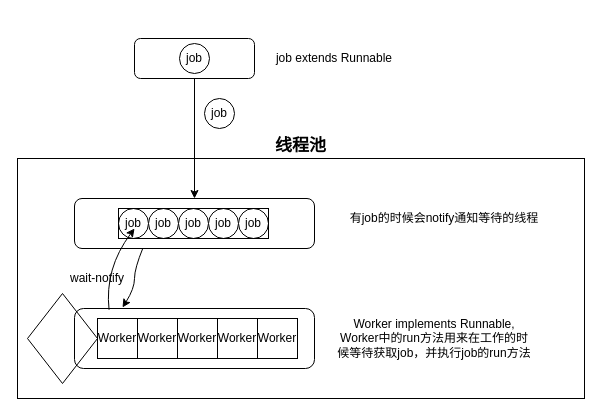
Image size: 602x416. Some labels were removed from this diagram. The box of each missing label's shape, as (x1, y1, x2, y2) in pixels:
Jobs队列: (74, 198, 314, 248)
volatile boolean running: (26, 292, 98, 384)
Workers列表: (74, 308, 314, 368)
客户端: (134, 38, 254, 78)
